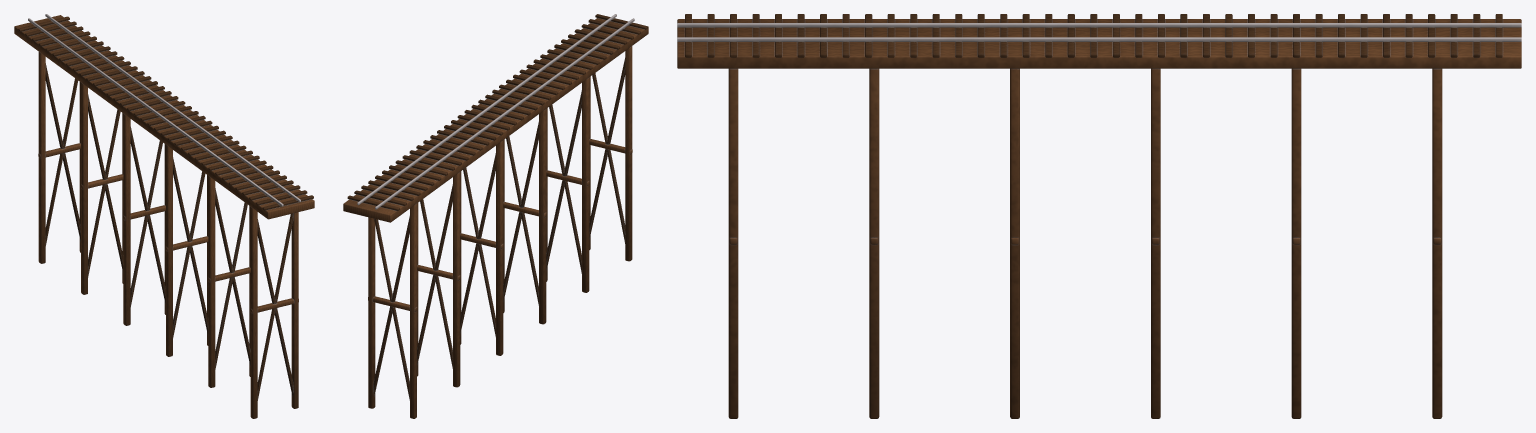
Rendered from rr_trestle_bridge.glb.
The picture shows the model from 3 angles, left to right: view 1: azimuth 30°, elevation 25°; view 2: azimuth 150°, elevation 25°; view 3: azimuth 270°, elevation 25°; orthographic projection. The views are drawn at different scales.
Parts seen in each view (by area): view 1: rr_trestle_bridge; view 2: rr_trestle_bridge; view 3: rr_trestle_bridge.
Part boxes in pixels (box(x1,y1,x2,y2)): rr_trestle_bridge: box(14, 14, 314, 418); rr_trestle_bridge: box(343, 14, 648, 418); rr_trestle_bridge: box(677, 14, 1521, 418).
Size of the model in its own units: 3.4 by 14.52 by 30.
3 materials, 3 textured.
